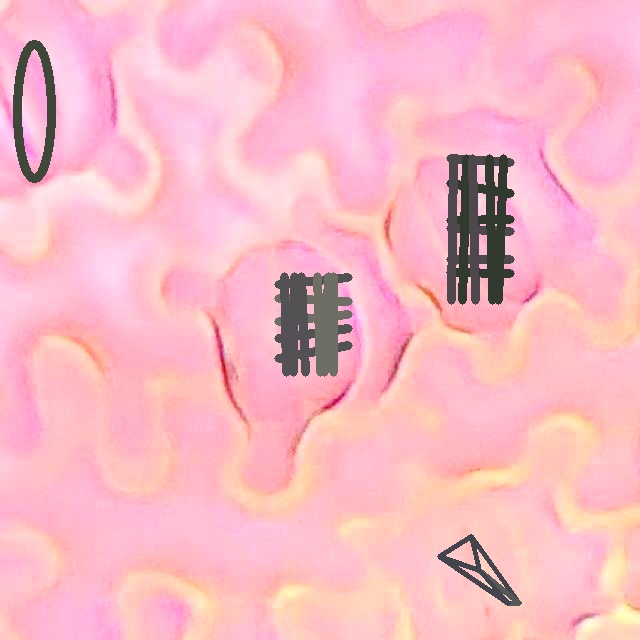close: (446, 154, 513, 304), (275, 273, 352, 376), (437, 534, 521, 605)
open: (13, 39, 55, 183)
